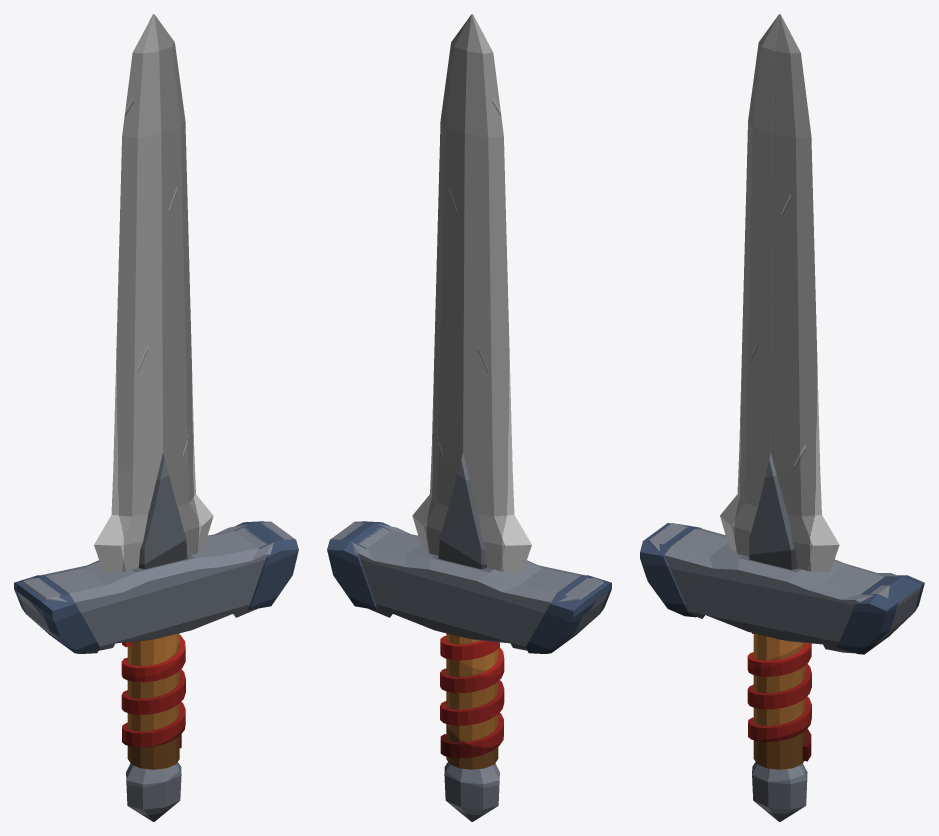
Rendered from sword.glb.
3 views of the same model, side by side, from view 1: azimuth 30°, elevation 25°; view 2: azimuth 150°, elevation 25°; view 3: azimuth 330°, elevation 25° (orthographic).
Visible parts, largest first — view 1: Blade, GuardContour, Grip, Wrap, GuardLanget, GuardTipLower, GuardTipUpper, Pommel; view 2: Blade, GuardContour, Wrap, Grip, GuardLanget, GuardTipLower, GuardTipUpper, Pommel; view 3: Blade, GuardContour, Grip, Wrap, GuardTipUpper, GuardLanget, Pommel, GuardTipLower.
Boxes of the visible parts, box(x1,y1,x2,y2) form: Blade: box(94, 14, 213, 572); GuardContour: box(18, 522, 294, 650); Grip: box(127, 633, 179, 769); Wrap: box(121, 635, 185, 748); GuardLanget: box(138, 453, 187, 569); GuardTipLower: box(14, 575, 100, 653); GuardTipUpper: box(235, 521, 298, 609); Pommel: box(126, 762, 181, 821); Blade: box(412, 14, 531, 572); GuardContour: box(331, 522, 607, 650); Wrap: box(440, 636, 504, 758); Grip: box(446, 633, 498, 769); GuardLanget: box(438, 453, 486, 569); GuardTipLower: box(525, 575, 611, 653); GuardTipUpper: box(327, 521, 390, 609); Pommel: box(444, 762, 499, 821); Blade: box(720, 14, 839, 572); GuardContour: box(648, 523, 921, 653); Grip: box(753, 633, 805, 769); Wrap: box(747, 633, 811, 761); GuardTipUpper: box(837, 575, 924, 654); GuardLanget: box(749, 452, 797, 569); Pommel: box(752, 762, 807, 821); GuardTipLower: box(640, 523, 701, 617).
Bounding box in the file's own units: 0.7228 × 2.19 × 0.19.
Materials: 5 (5 with a texture image).
